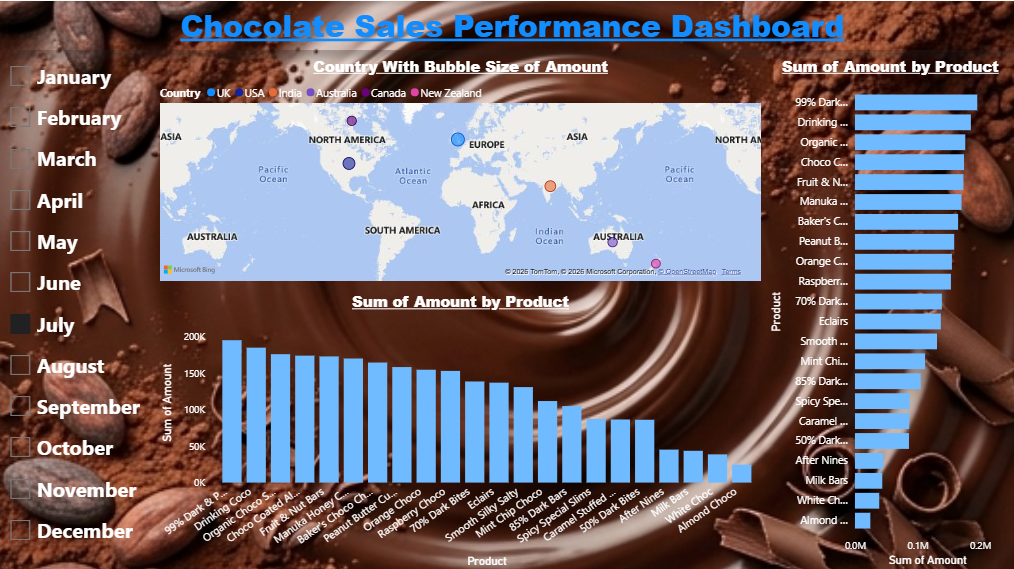

The page's visual inventory and layout, read from the dashboard file:
{"tool":"powerbi","page":{"name":"page 03","canvas":[1280,720],"ordinal":2},"visuals":[{"type":"textbox","box":[9.4,0,1271.8,62.4],"z":0},{"type":"map","title":"Country With Bubble Size of Amount","fields":{"Series":["data.Country"],"Category":["data.Country"],"Size":["Sum(data.Amount)"]},"box":[196.5,62.4,767.2,296.7],"z":1000},{"type":"columnChart","fields":{"Category":["data.Product"],"Y":["Sum(data.Amount)"]},"box":[196.5,359.1,767.2,360.9],"z":2000},{"type":"barChart","fields":{"Category":["data.Product"],"Y":["Sum(data.Amount)"]},"box":[963.8,62.4,315.6,655.8],"z":3000},{"type":"slicer","title":"Month (filter)","fields":{"Values":["data.Date.Variation.Date Hierarchy.Month"]},"box":[0,62.4,196.5,657.6],"z":5000}]}

Visuals, with their boxes in screenshot pixels (x1, y1, x2, y2), scaled from the page's 1280x720 canvas onto the 1014x569 screenshot:
textbox: <region>7, 0, 1013, 49</region>
"Country With Bubble Size of Amount" map: <region>156, 49, 763, 284</region>
columnChart - data.Product x Sum(data.Amount): <region>156, 284, 763, 568</region>
barChart - data.Product x Sum(data.Amount): <region>764, 49, 1013, 568</region>
"Month (filter)" slicer: <region>0, 49, 156, 568</region>
